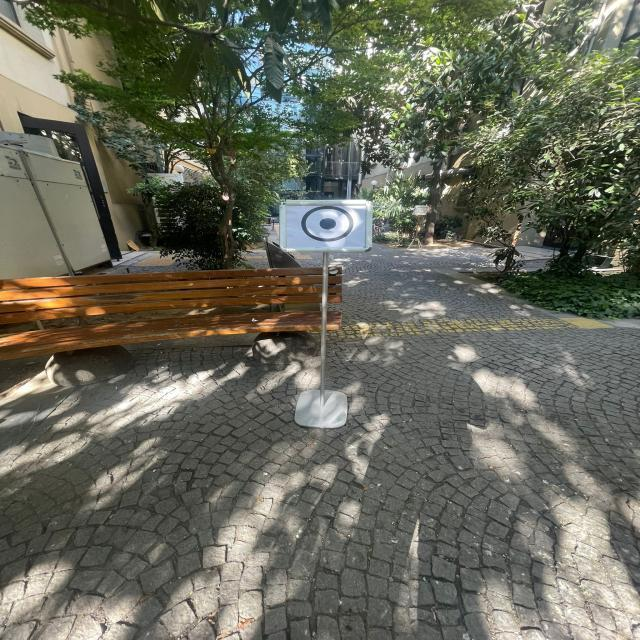Target: (270, 188, 386, 260)
inner: (312, 213, 344, 234)
